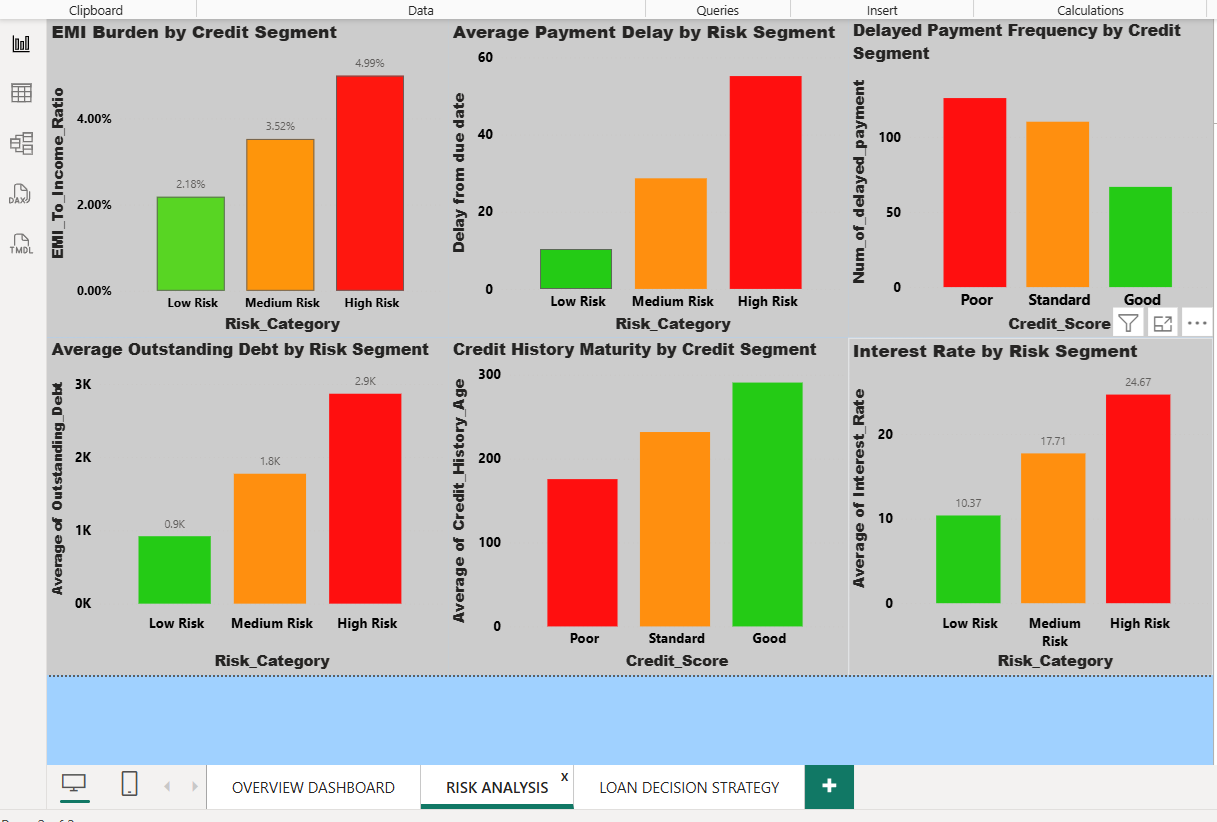

This screenshot's page, from the dashboard's own definition file:
{"tool":"powerbi","page":{"name":"RISK ANALYSIS","canvas":[1280,720],"ordinal":1},"visuals":[{"type":"clusteredColumnChart","title":"EMI Burden by Credit Segment","fields":{"Y":["Avg(credit_risk_customer_level.EMI_to_Income_Ratio)"],"Category":["credit_risk_customer_level.Risk_Category"]},"box":[0,0,440.5,349.9],"z":0},{"type":"columnChart","title":"Average Payment Delay by Risk Segment","fields":{"Category":["credit_risk_customer_level.Risk_Category"],"Y":["Avg(credit_risk_customer_level.Delay_from_due_date)"]},"box":[440.5,0,439.1,349.9],"z":1000},{"type":"columnChart","title":"Credit History Maturity by Credit Segment","fields":{"Y":["Avg(credit_risk_customer_level.Credit_History_Age)"],"Category":["credit_risk_customer_level.Credit_Score"]},"box":[440.5,349.9,439.1,370.5],"z":2000},{"type":"columnChart","title":"Average Outstanding Debt by Risk Segment","fields":{"Category":["credit_risk_customer_level.Risk_Category"],"Y":["Avg(credit_risk_customer_level.Outstanding_Debt)"]},"box":[0,349.9,440.5,370.5],"z":3000},{"type":"columnChart","title":"Delayed Payment Frequency by Credit Segment","fields":{"Y":["Avg(credit_risk_customer_level.Num_of_Delayed_Payment)"],"Category":["credit_risk_customer_level.Credit_Score"]},"box":[879.6,0,400.7,349.9],"z":4000},{"type":"columnChart","title":"Interest Rate by Risk Segment","fields":{"Y":["Avg(credit_risk_customer_level.Interest_Rate)"],"Category":["credit_risk_customer_level.Risk_Category"]},"box":[880,350,400,370],"z":5000}]}

Visuals, with their boxes in screenshot pixels (x1, y1, x2, y2):
"EMI Burden by Credit Segment" clusteredColumnChart: [left=57, top=25, right=455, bottom=342]
"Average Payment Delay by Risk Segment" columnChart: [left=455, top=25, right=853, bottom=342]
"Credit History Maturity by Credit Segment" columnChart: [left=455, top=342, right=853, bottom=677]
"Average Outstanding Debt by Risk Segment" columnChart: [left=57, top=342, right=455, bottom=677]
"Delayed Payment Frequency by Credit Segment" columnChart: [left=853, top=25, right=1215, bottom=342]
"Interest Rate by Risk Segment" columnChart: [left=853, top=342, right=1215, bottom=677]
